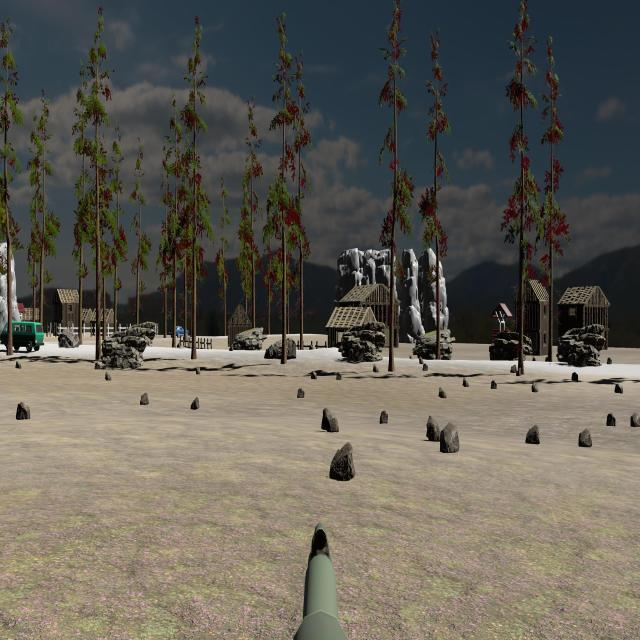car: (0, 320, 44, 352), (1, 320, 44, 352)
